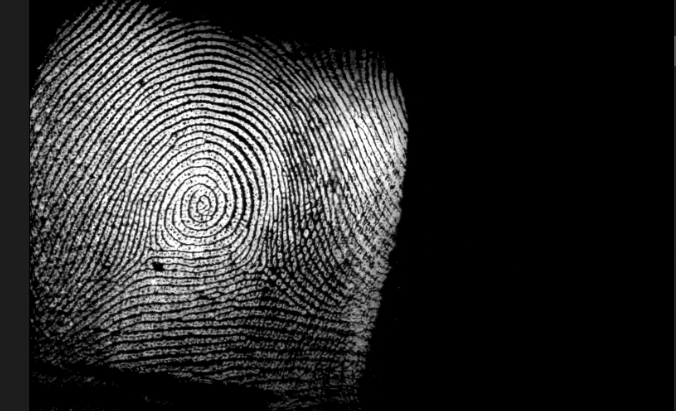deltas: (244, 236, 286, 289), (126, 225, 172, 272)
nucleo: (178, 180, 222, 231)
